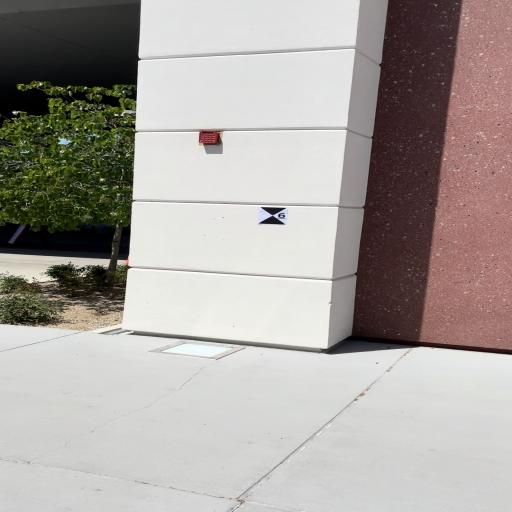target6: (258, 207, 287, 225)
